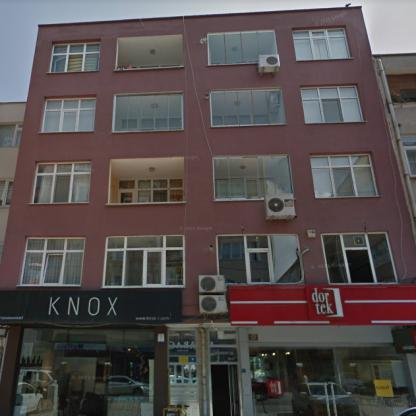door: (169, 332, 199, 416)
window: (13, 327, 154, 415), (248, 345, 414, 415), (104, 236, 186, 286), (218, 235, 302, 283), (322, 231, 396, 284), (214, 156, 291, 200), (311, 153, 379, 198), (20, 237, 83, 285), (112, 92, 182, 133), (212, 88, 285, 126), (299, 84, 364, 124), (208, 29, 277, 65), (32, 162, 90, 203), (40, 97, 96, 132), (292, 27, 350, 60), (49, 40, 100, 72), (118, 179, 184, 203), (1, 122, 23, 146), (210, 347, 238, 364), (404, 147, 416, 176), (2, 178, 12, 207)
